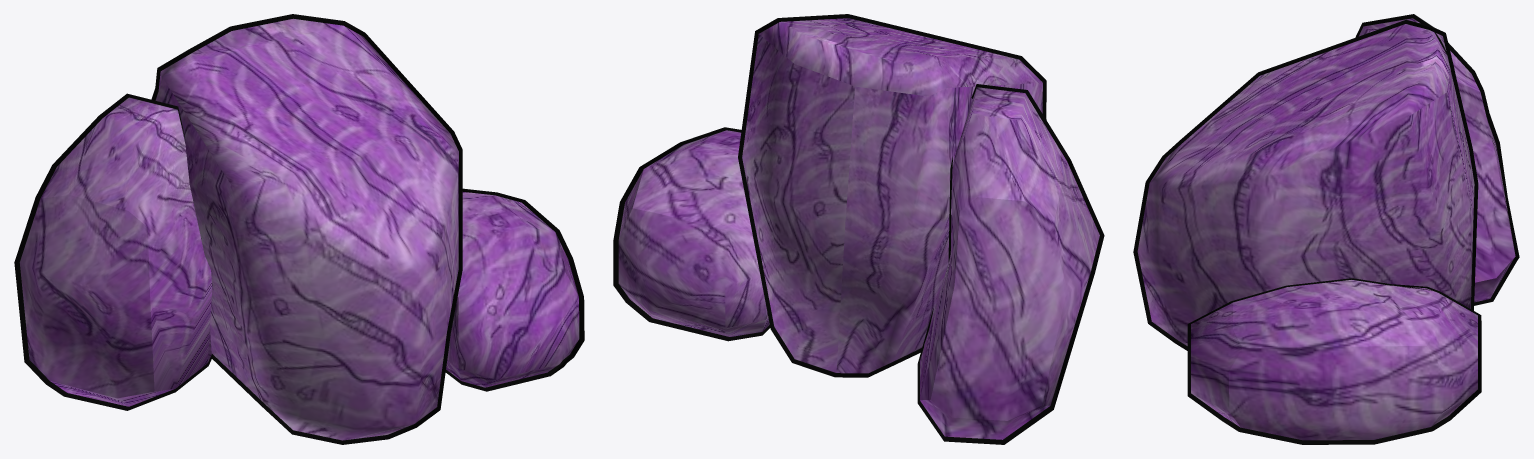
Rendered from entity247154n.gltf.
3 views of the same model, side by side, from view 1: azimuth 30°, elevation 25°; view 2: azimuth 150°, elevation 25°; view 3: azimuth 270°, elevation 25° (orthographic). The views are drawn at different scales.
Visible parts, largest first — view 1: node_Rock_03 (5); view 2: node_Rock_03 (5); view 3: node_Rock_03 (5).
Part boxes in pixels (bbox=[...]): node_Rock_03 (5): bbox=[14, 14, 584, 444]; node_Rock_03 (5): bbox=[613, 14, 1104, 444]; node_Rock_03 (5): bbox=[1133, 14, 1519, 444].
Size of what is drawn, in the model's own units: 6.59 by 4.43 by 4.91.
